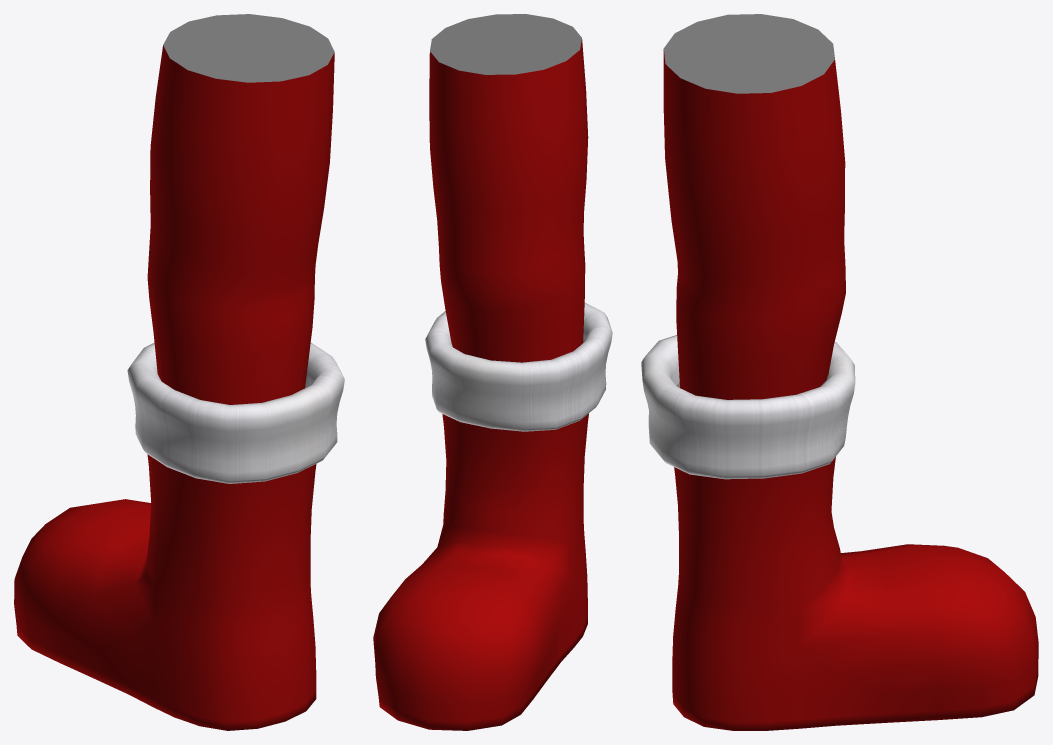
The model's file is leftLegSanta.obj.
3 renders of one model, left to right at view 1: azimuth 30°, elevation 25°; view 2: azimuth 150°, elevation 25°; view 3: azimuth 270°, elevation 25°, orthographic. The views are drawn at different scales.
Parts seen in each view (by area): view 1: polySurface10; view 2: polySurface10; view 3: polySurface10.
Boxes of the visible parts, <box> form: polySurface10: <box>14,14,344,730</box>; polySurface10: <box>373,14,612,730</box>; polySurface10: <box>641,14,1038,730</box>.
Bounding box in the file's own units: 1.44 × 4.52 × 2.47.
3 materials, 2 textured.
